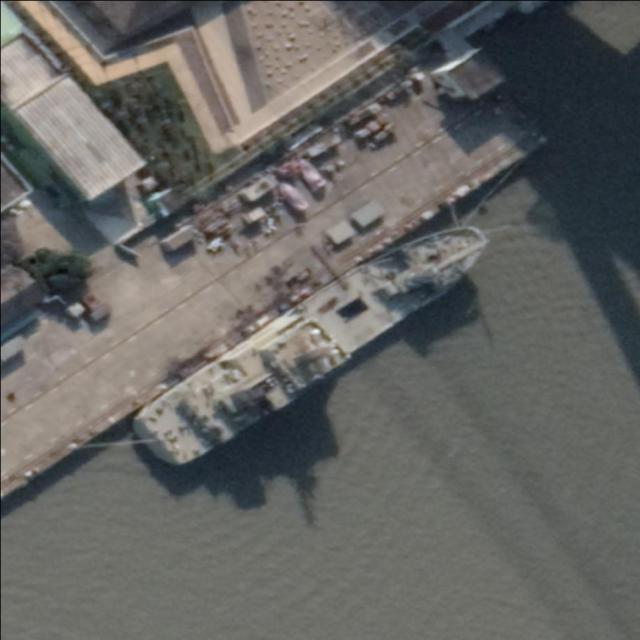Frigate: (128, 197, 495, 476)
